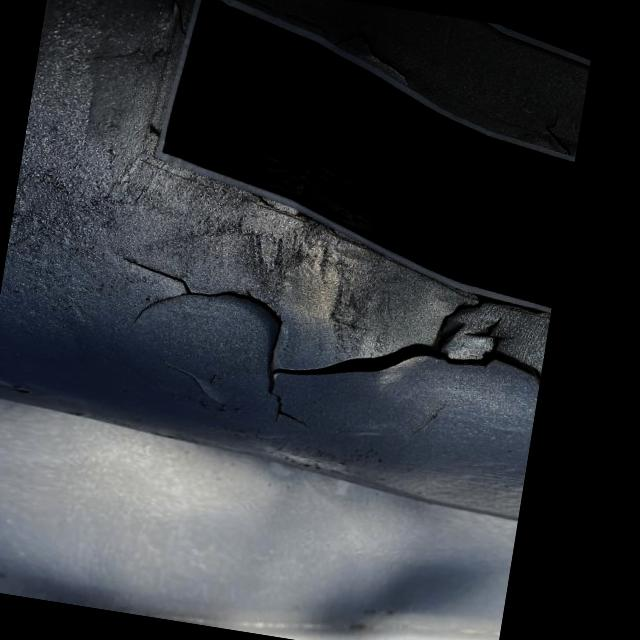crack: (278, 312, 542, 424), (104, 250, 290, 351), (232, 378, 332, 422)
